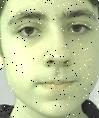without_mask: (1, 1, 99, 118)
